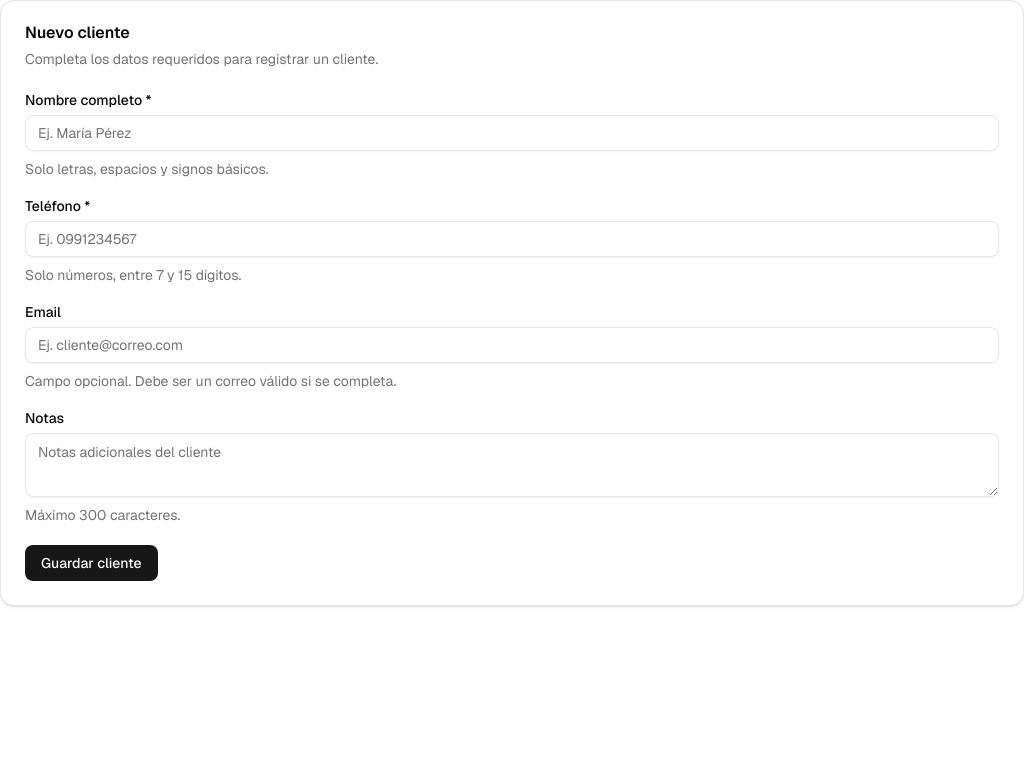
Test case: ClientForm › limpia caracteres no numéricos en teléfono
Type "099-abc-123x" into the field labelled "Teléfono *" at (512, 239), box [25,221,999,257]
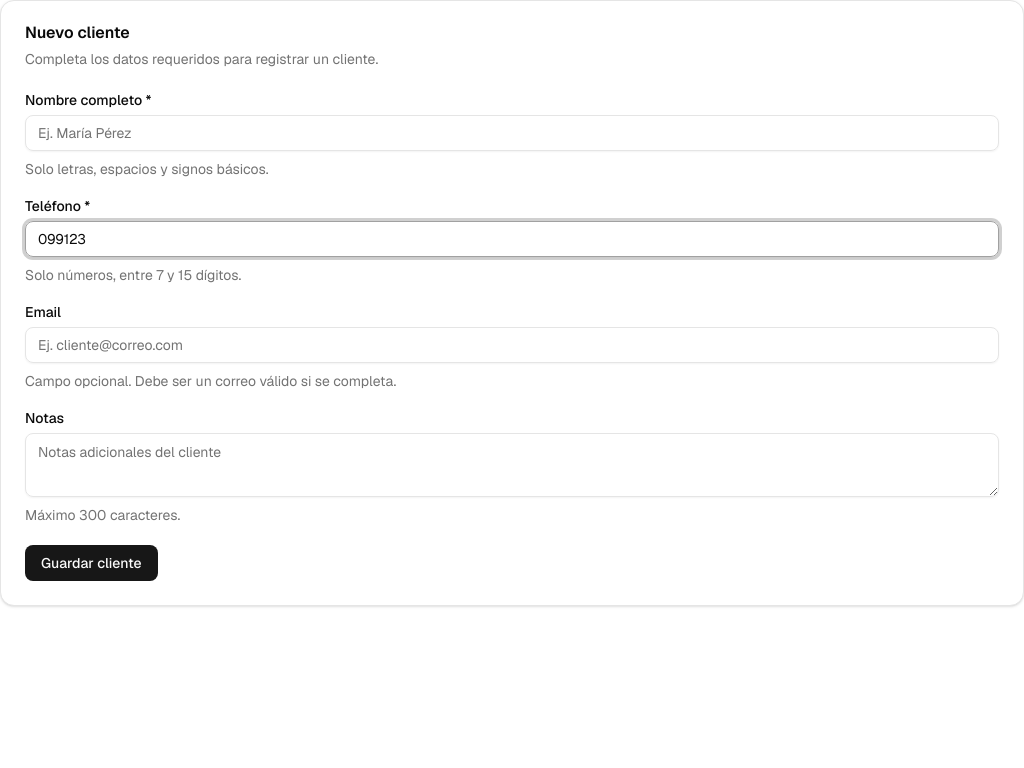
Check: the field labelled "Teléfono *" holds "099123", box [25,221,999,257]
